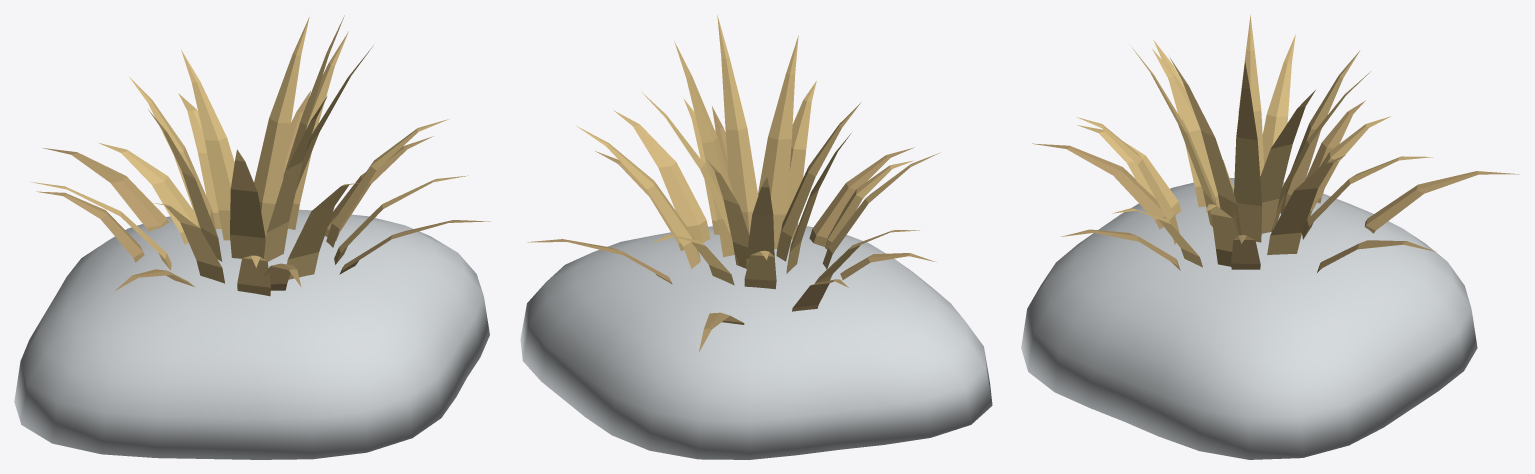
The model's file is Env_SnowGrass.glb.
The picture shows the model from 3 angles, left to right: view 1: azimuth 30°, elevation 25°; view 2: azimuth 150°, elevation 25°; view 3: azimuth 270°, elevation 25°; orthographic projection. The views are drawn at different scales.
Parts seen in each view (by area): view 1: Env_SnowGrass_Snow, Env_SnowGrass_Blades; view 2: Env_SnowGrass_Snow, Env_SnowGrass_Blades; view 3: Env_SnowGrass_Snow, Env_SnowGrass_Blades.
Part boxes in pixels (<box>): Env_SnowGrass_Snow: <box>14,209,489,459</box>; Env_SnowGrass_Blades: <box>29,15,490,296</box>; Env_SnowGrass_Snow: <box>520,225,992,459</box>; Env_SnowGrass_Blades: <box>527,15,940,351</box>; Env_SnowGrass_Snow: <box>1021,178,1477,459</box>; Env_SnowGrass_Blades: <box>1032,15,1519,272</box>.
Size of the model in its own units: 0.651 by 0.4518 by 0.6147.
